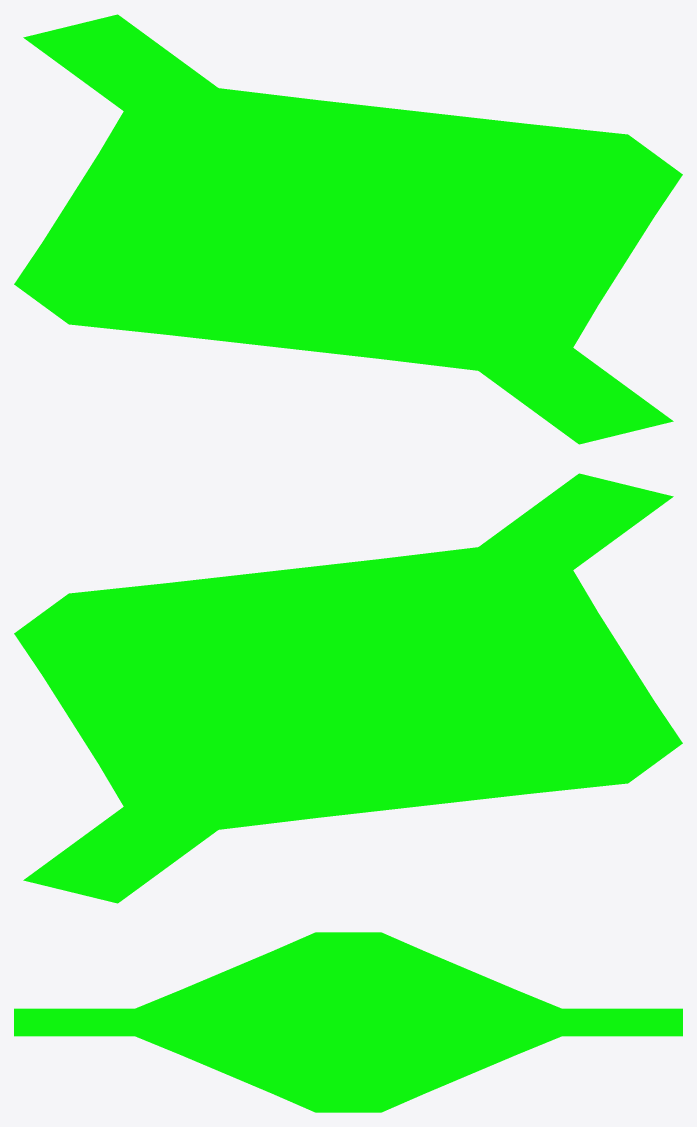
Rendered from s07a_ib2-floor.glb.
The picture shows the model from 3 angles, top to bottom: view 1: azimuth 30°, elevation 25°; view 2: azimuth 150°, elevation 25°; view 3: azimuth 270°, elevation 25°; orthographic projection. The views are drawn at different scales.
Parts seen in each view (by area): view 1: collision_floor-colonly; view 2: collision_floor-colonly; view 3: collision_floor-colonly.
Boxes of the visible parts, x1,y1,x2,y2 form: collision_floor-colonly: [14, 14, 682, 444]; collision_floor-colonly: [14, 473, 682, 903]; collision_floor-colonly: [14, 932, 682, 1112].
Bounding box in the file's own units: 38.86 × 0 × 60.93.
